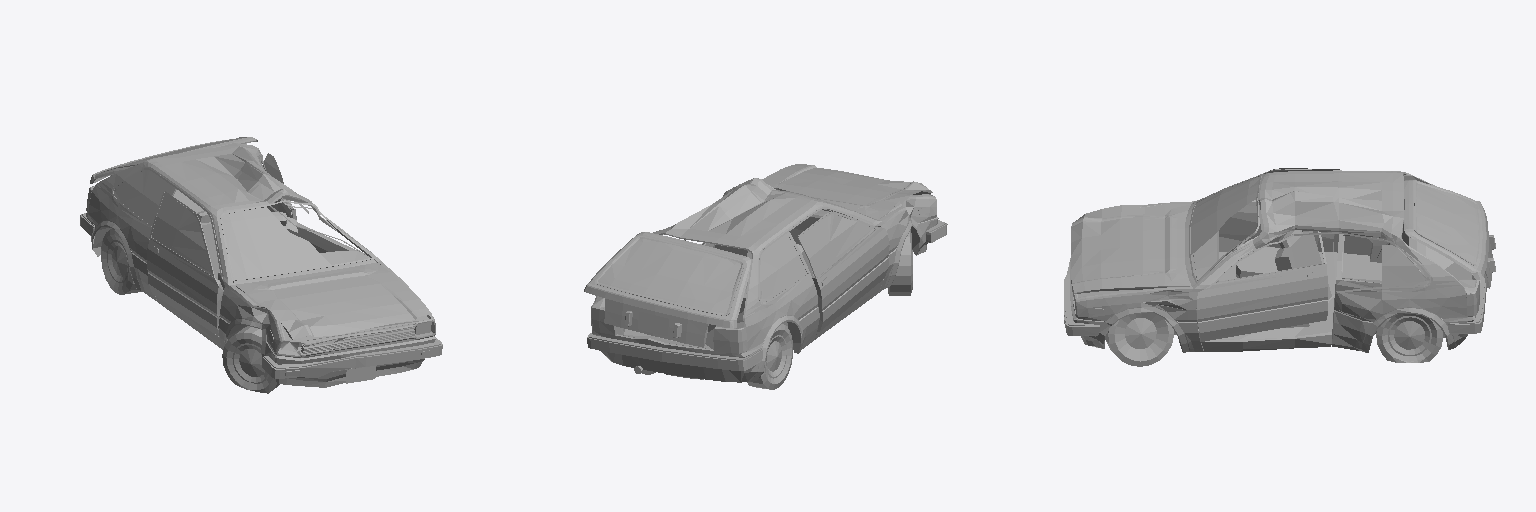
The model's file is DEDZS73HVSRN87Y81KI910HWX.obj.
3 views of the same model, side by side, from view 1: azimuth 30°, elevation 25°; view 2: azimuth 150°, elevation 25°; view 3: azimuth 270°, elevation 25° (orthographic).
Parts seen in each view (by area): view 1: Object_4carz1024.jpg, Object_4carz1024_glass.jpg; view 2: Object_4carz1024.jpg, Object_4carz1024_glass.jpg; view 3: Object_4carz1024.jpg, Object_4carz1024_glass.jpg.
Part boxes in pixels (left/top/right/bottom): Object_4carz1024.jpg: left=80, top=137, right=442, bottom=393; Object_4carz1024_glass.jpg: left=86, top=138, right=433, bottom=376; Object_4carz1024.jpg: left=584, top=164, right=947, bottom=389; Object_4carz1024_glass.jpg: left=591, top=197, right=929, bottom=353; Object_4carz1024.jpg: left=1064, top=169, right=1495, bottom=366; Object_4carz1024_glass.jpg: left=1064, top=168, right=1479, bottom=326.
Size of the model in its own units: 1.18 by 0.9278 by 2.5.